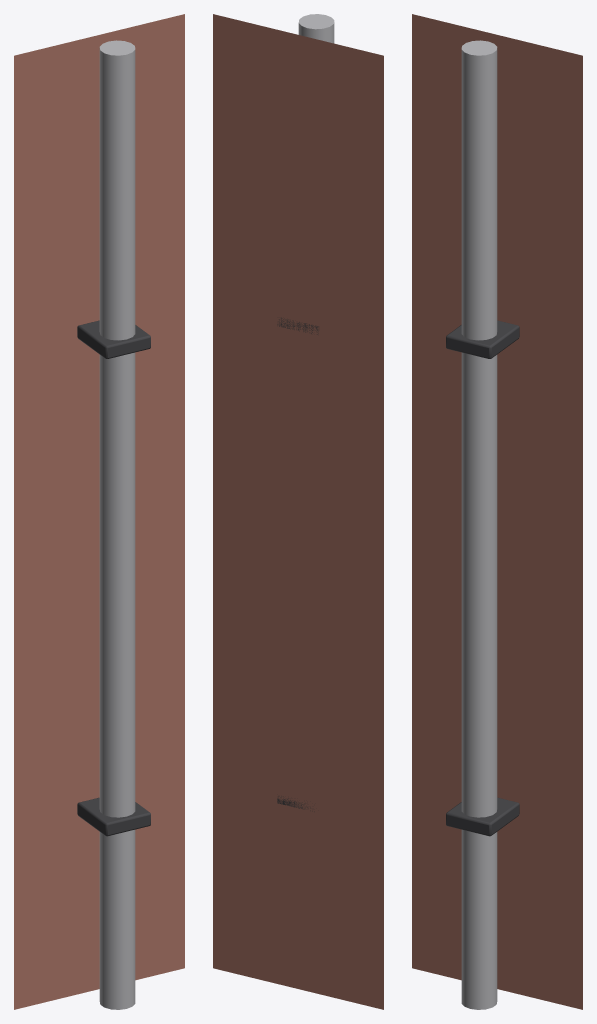
Rendered from filler_downpipe_u_06.glb.
The picture shows the model from 3 angles, left to right: view 1: azimuth 30°, elevation 25°; view 2: azimuth 150°, elevation 25°; view 3: azimuth 330°, elevation 25°; orthographic projection.
Visible parts, largest first — view 1: filler_downpipe_u_06; view 2: filler_downpipe_u_06; view 3: filler_downpipe_u_06.
Boxes of the visible parts, x1,y1,x2,y2 form: filler_downpipe_u_06: (14,14,184,1009); filler_downpipe_u_06: (213,14,383,1009); filler_downpipe_u_06: (412,14,582,1009).
Size of the model in its own units: 0.6 by 3.2 by 0.18.
